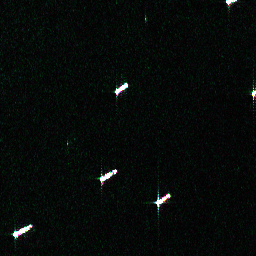ship: (96, 165, 120, 185), (9, 221, 34, 240), (152, 190, 173, 208), (111, 80, 131, 97)
